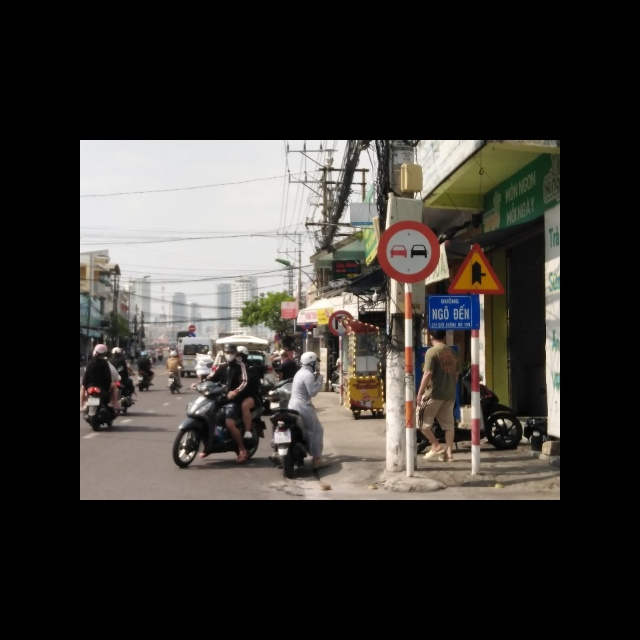Cấm vượt: (377, 219, 442, 285)
Giao nhau với đường không ưu tiên: (447, 238, 506, 294)
